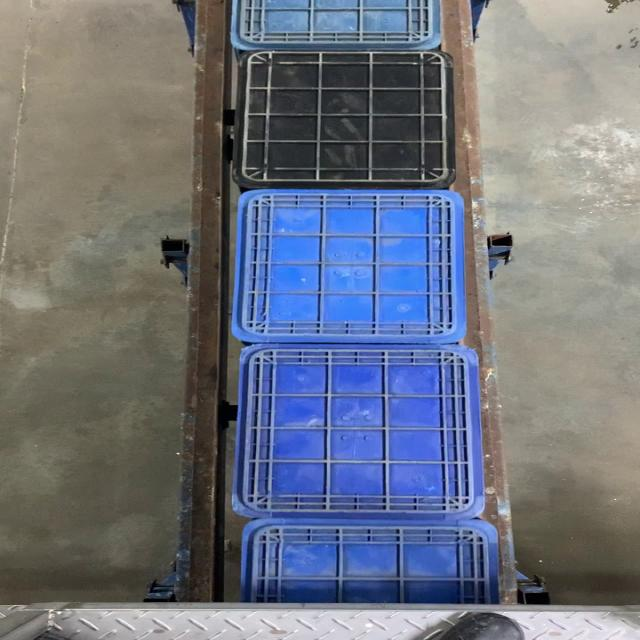Box: (234, 345, 484, 518), (231, 188, 467, 344), (234, 50, 455, 189)
